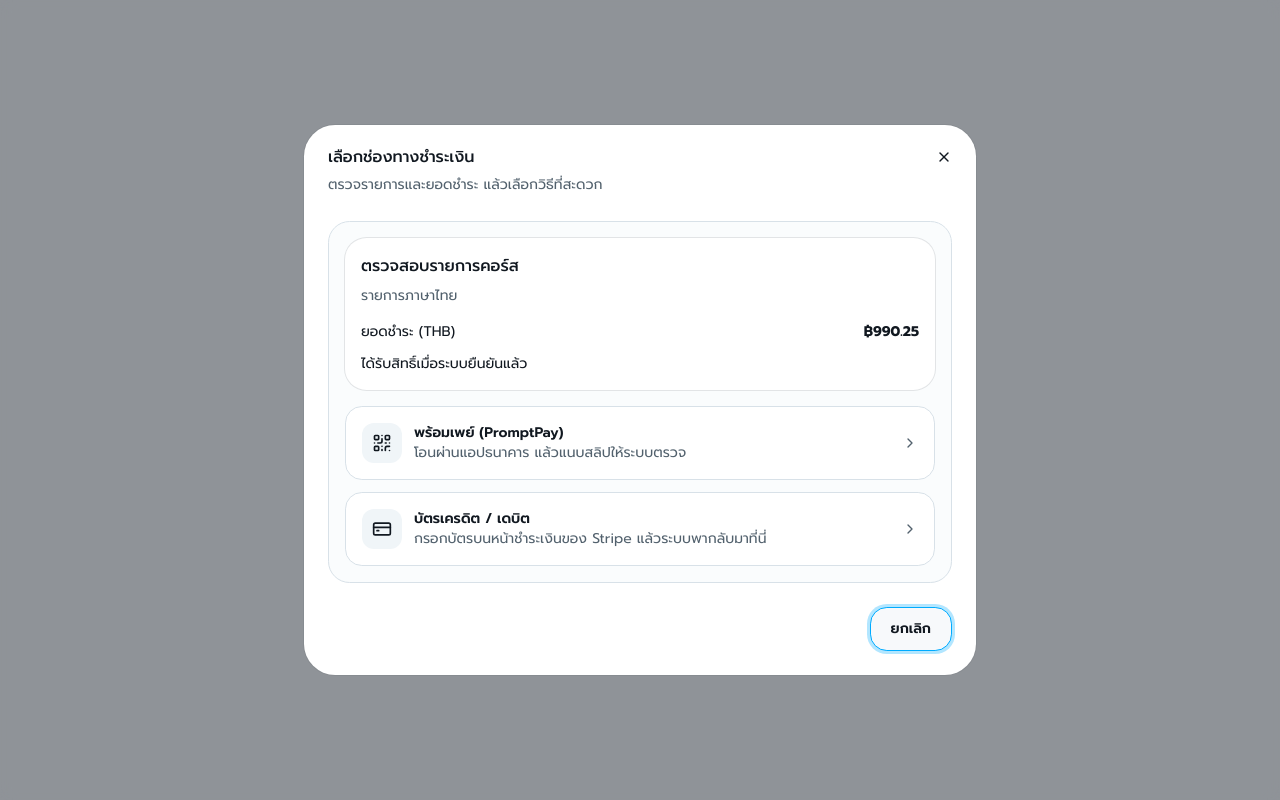
Test case: course order review and payment › requires a fresh review after Stripe rejects the reviewed price
This screenshot has width=1280, height=800.
Click the button "Stripe" at (640, 529), box [345,492,935,566]
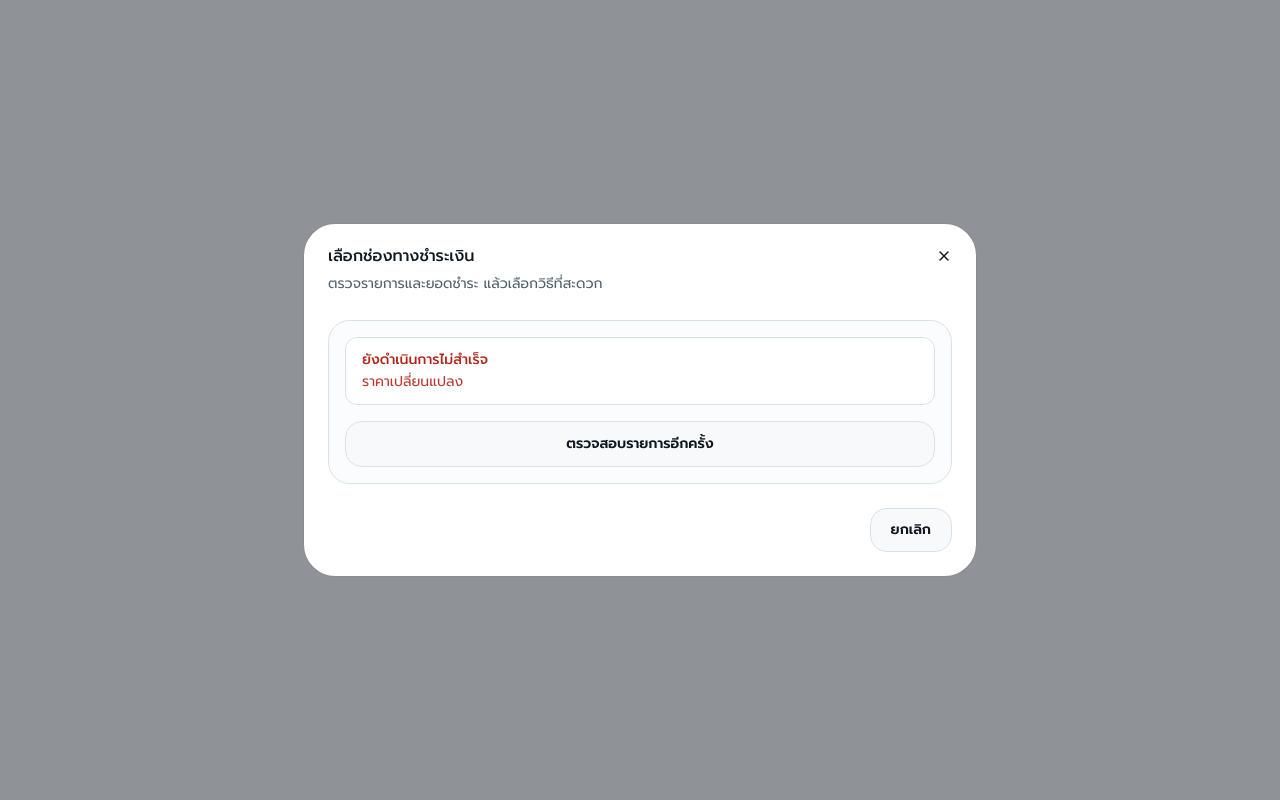
Check: the text "ราคาเปลี่ยนแปลง" is shown, box [362,371,463,392]
Check: the button "PromptPay" is gone
Check: the button "ตรวจสอบรายการอีกครั้ง" is shown, box [345,421,935,467]
